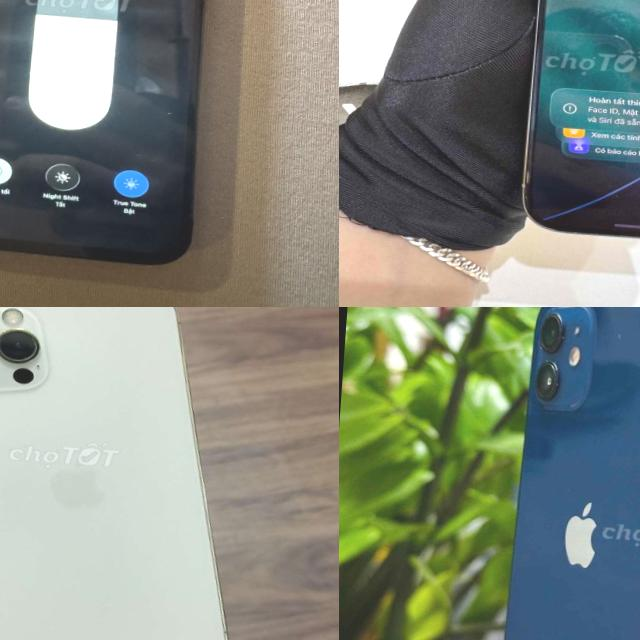gen_12_13: (0, 307, 251, 640), (0, 0, 224, 273), (491, 307, 640, 640)
gen_15: (486, 0, 640, 293)
